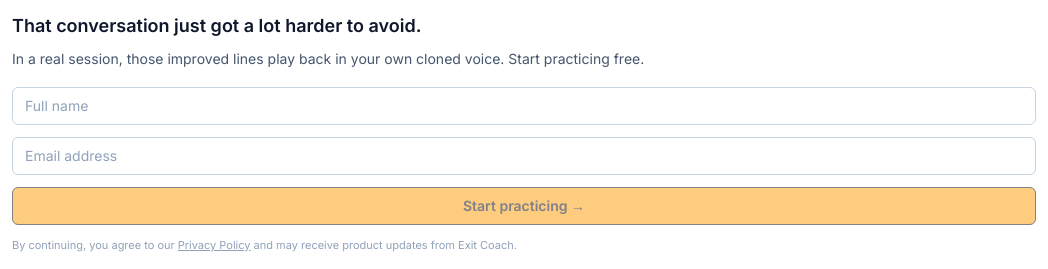
Test: DemoLeadForm › disables submit until both fields are valid
Expected: the button "Start practicing →" is disabled, top-left (12, 187), bottom-right (1036, 225)
In the field with placeholder "Full name": (524, 106) top-left (12, 87), bottom-right (1036, 125), type "Alice"
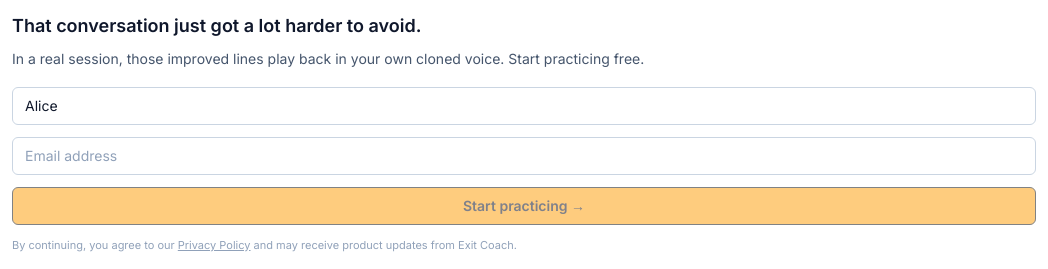
Expected: the button "Start practicing →" is disabled, top-left (12, 187), bottom-right (1036, 225)
In the field with placeholder "Email address": (524, 156) top-left (12, 137), bottom-right (1036, 175), type "not-an-email"
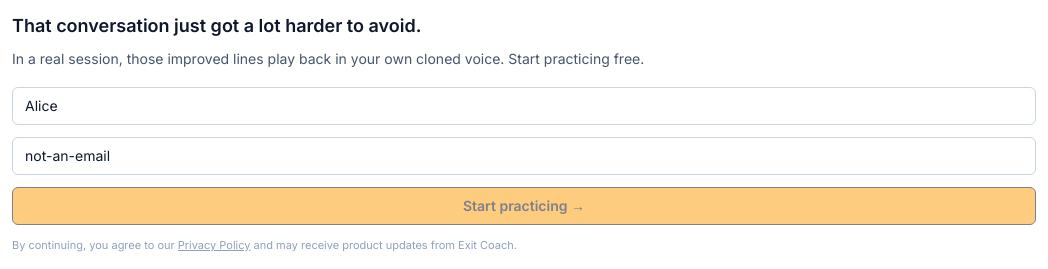
Expected: the button "Start practicing →" is disabled, top-left (12, 187), bottom-right (1036, 225)
Replace the text in the 2nd field with placeholder "Email address" with "alice@example.com": (524, 156) top-left (12, 137), bottom-right (1036, 175)
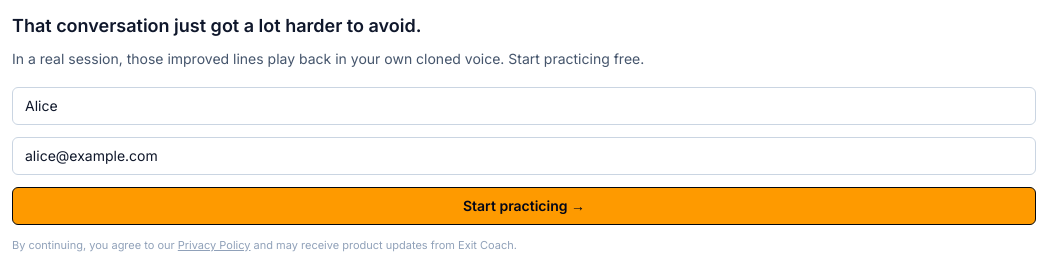
Expected: the button "Start practicing →" is enabled, top-left (12, 187), bottom-right (1036, 225)
